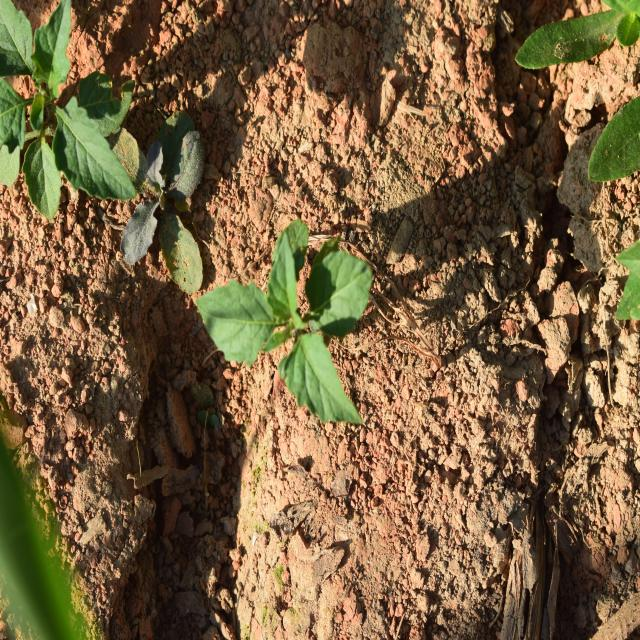Black_nightshade: (212, 215, 406, 445), (0, 4, 133, 216)
